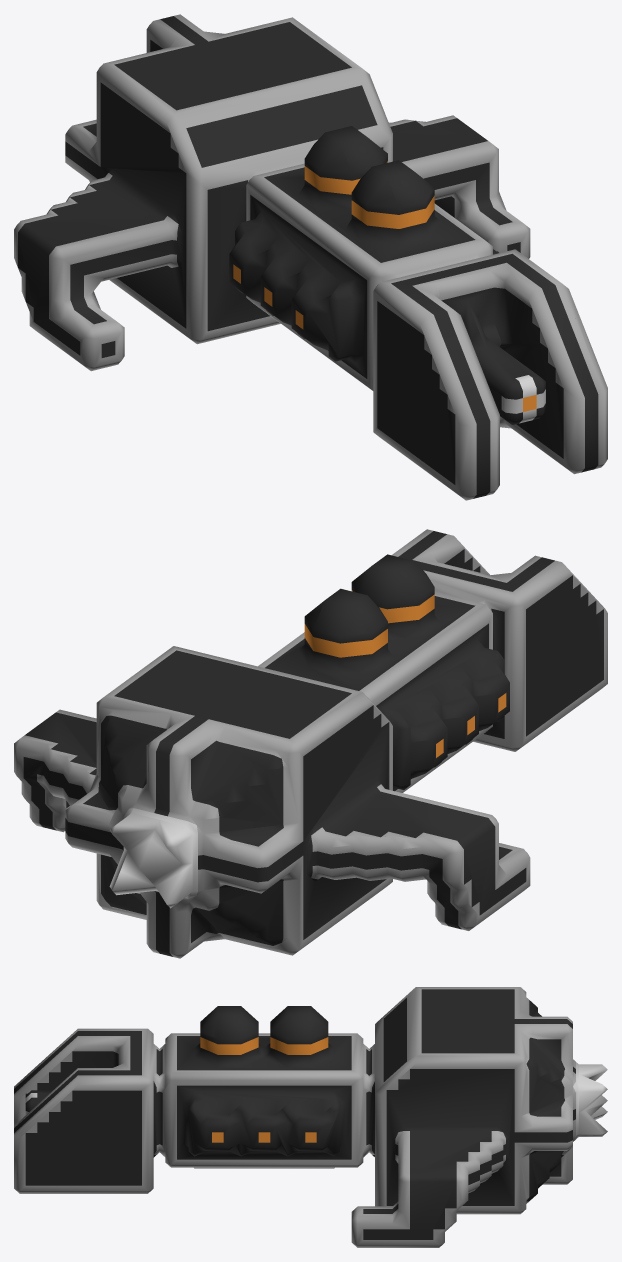
File: ndrc-2-novaatje-class.obj
The picture shows the model from 3 angles, top to bottom: view 1: azimuth 30°, elevation 25°; view 2: azimuth 150°, elevation 25°; view 3: azimuth 270°, elevation 25°; orthographic projection. The views are drawn at different scales.
Size of the model in its own units: 33 by 16 by 51.
1 material, 1 textured.
